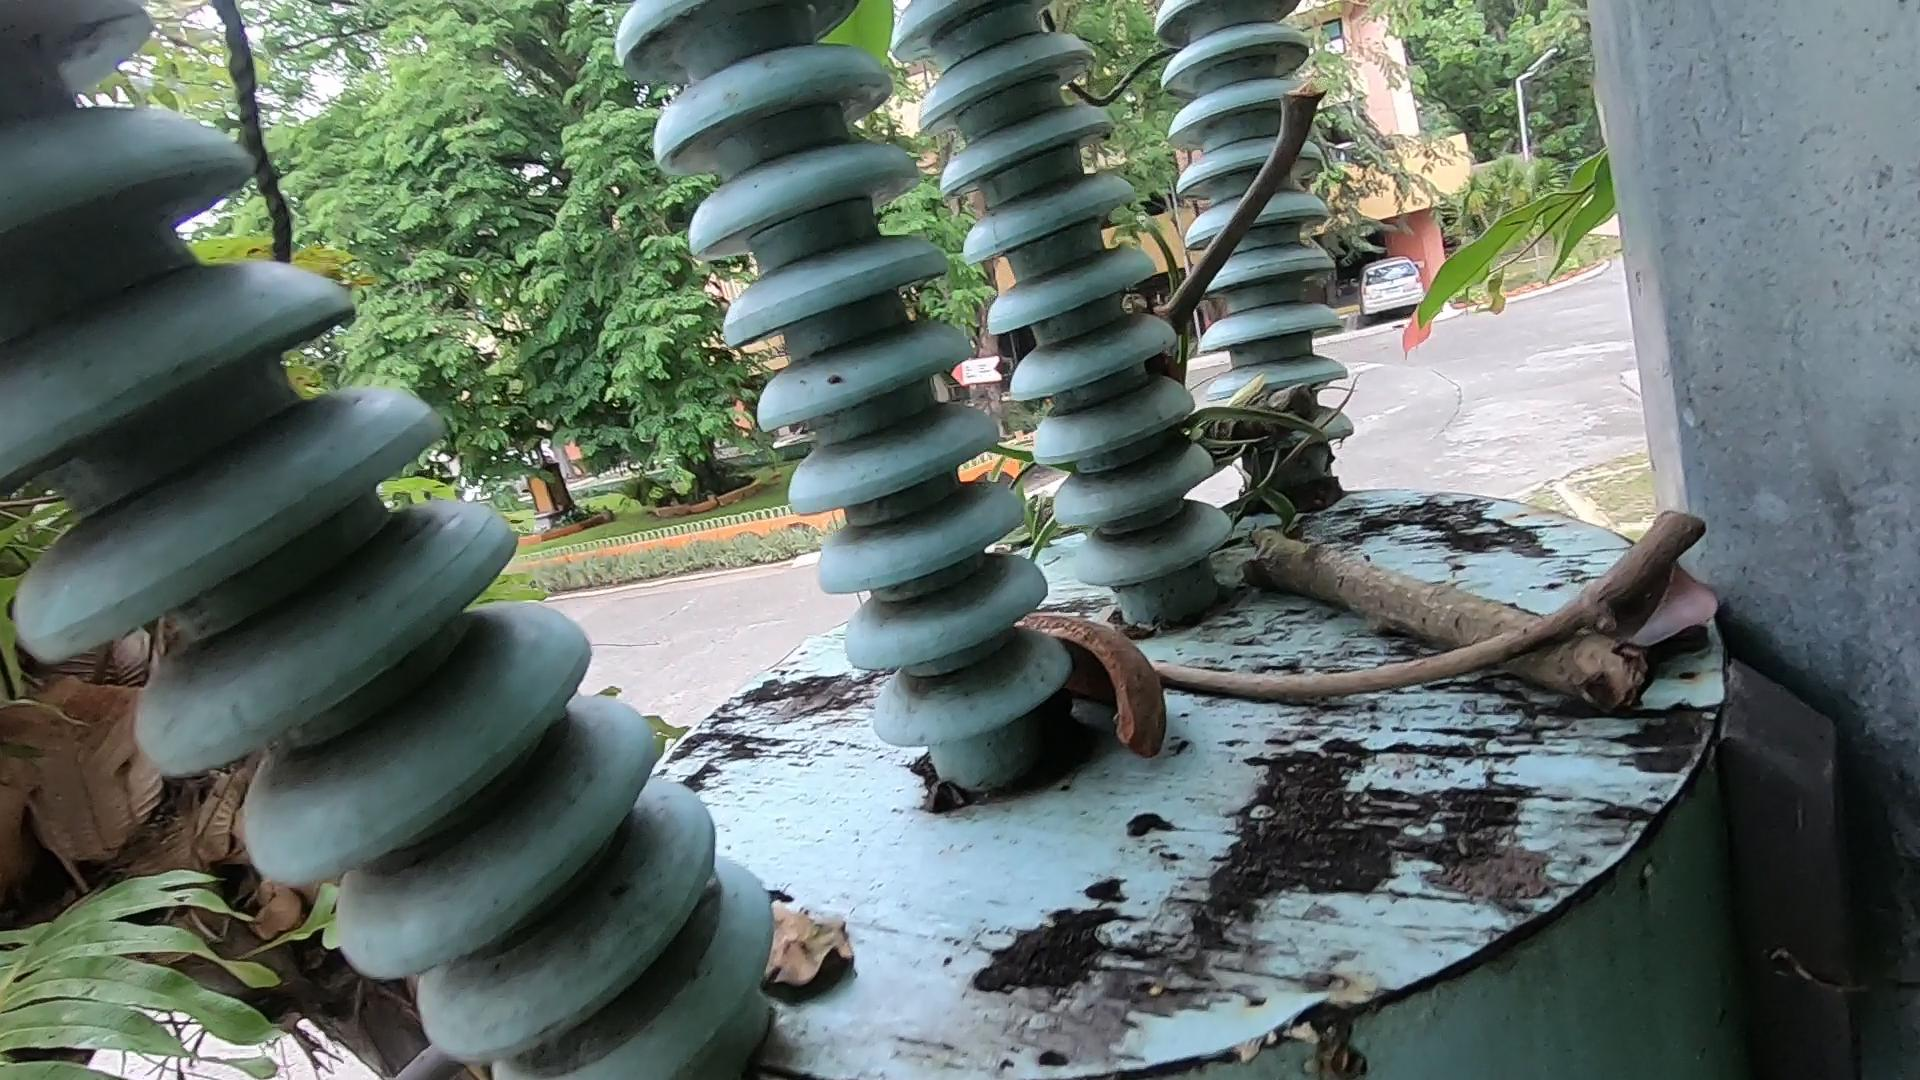branch with leaves: (1110, 375, 1610, 707)
leaf: (1551, 524, 1812, 773), (674, 849, 964, 1073)
mahogany fruit: (1022, 597, 1232, 774)
tree branch: (1149, 568, 1840, 804), (1095, 1, 1358, 465)
